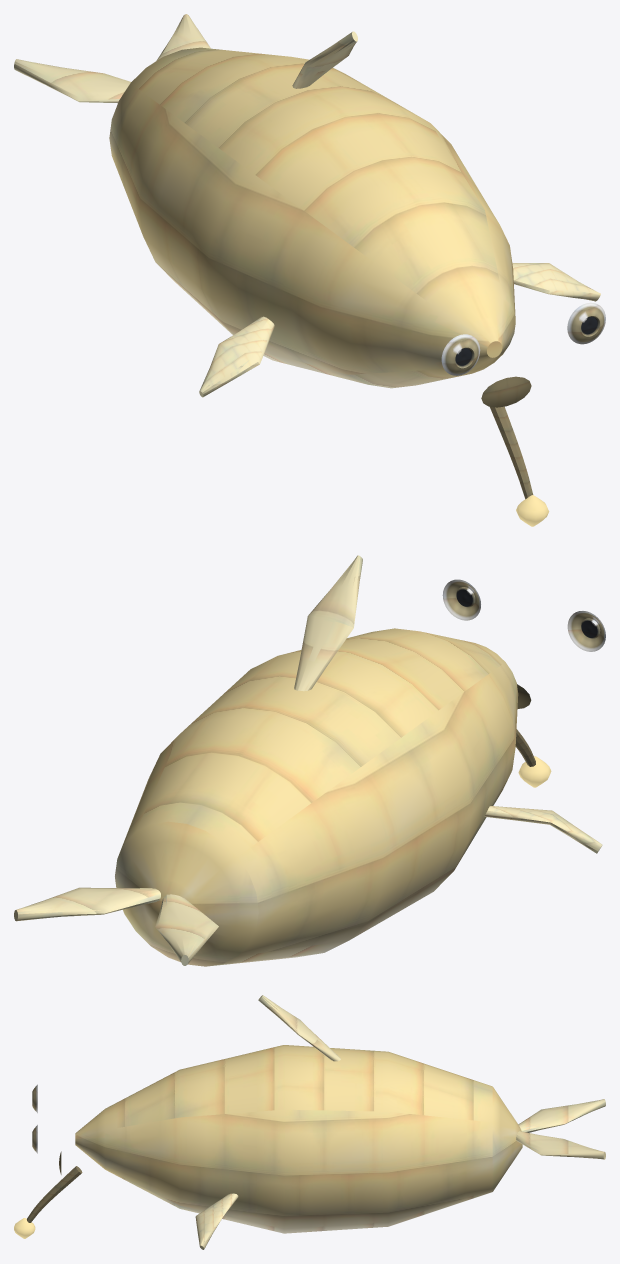
Rendered from sp_hikariuo-4jp3m2fe.glb.
3 views of the same model, one above another, from view 1: azimuth 30°, elevation 25°; view 2: azimuth 150°, elevation 25°; view 3: azimuth 270°, elevation 25° (orthographic). The views are drawn at different scales.
Parts seen in each view (by area): view 1: Body, TailMesh, HeadMesh, Fin-1, Fin1, Barbel, BarbelTip; view 2: Body, TailMesh, HeadMesh, Fin-1, BarbelTip; view 3: Body, TailMesh, Fin1, Barbel.
Boxes of the visible parts, left/top/right/bottom form: Body: left=109, top=47, right=515, bottom=388; TailMesh: left=14, top=14, right=357, bottom=103; HeadMesh: left=441, top=302, right=605, bottom=407; Fin-1: left=199, top=316, right=274, bottom=397; Fin1: left=512, top=263, right=600, bottom=301; Barbel: left=490, top=406, right=533, bottom=499; BarbelTip: left=516, top=495, right=549, bottom=526; Body: left=115, top=628, right=518, bottom=966; TailMesh: left=14, top=555, right=362, bottom=965; HeadMesh: left=442, top=579, right=605, bottom=708; Fin-1: left=484, top=806, right=602, bottom=853; BarbelTip: left=518, top=756, right=551, bottom=787; Body: left=75, top=1045, right=522, bottom=1233; TailMesh: left=258, top=995, right=605, bottom=1159; Fin1: left=195, top=1193, right=238, bottom=1249; Barbel: left=27, top=1166, right=82, bottom=1222.
Size of the model in its own units: 0.414 by 0.3598 by 0.7941.
2 materials, 2 textured.
